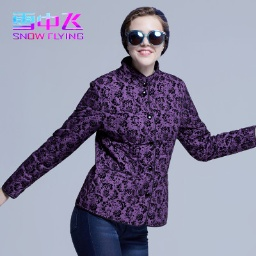face: (117, 7, 177, 70)
